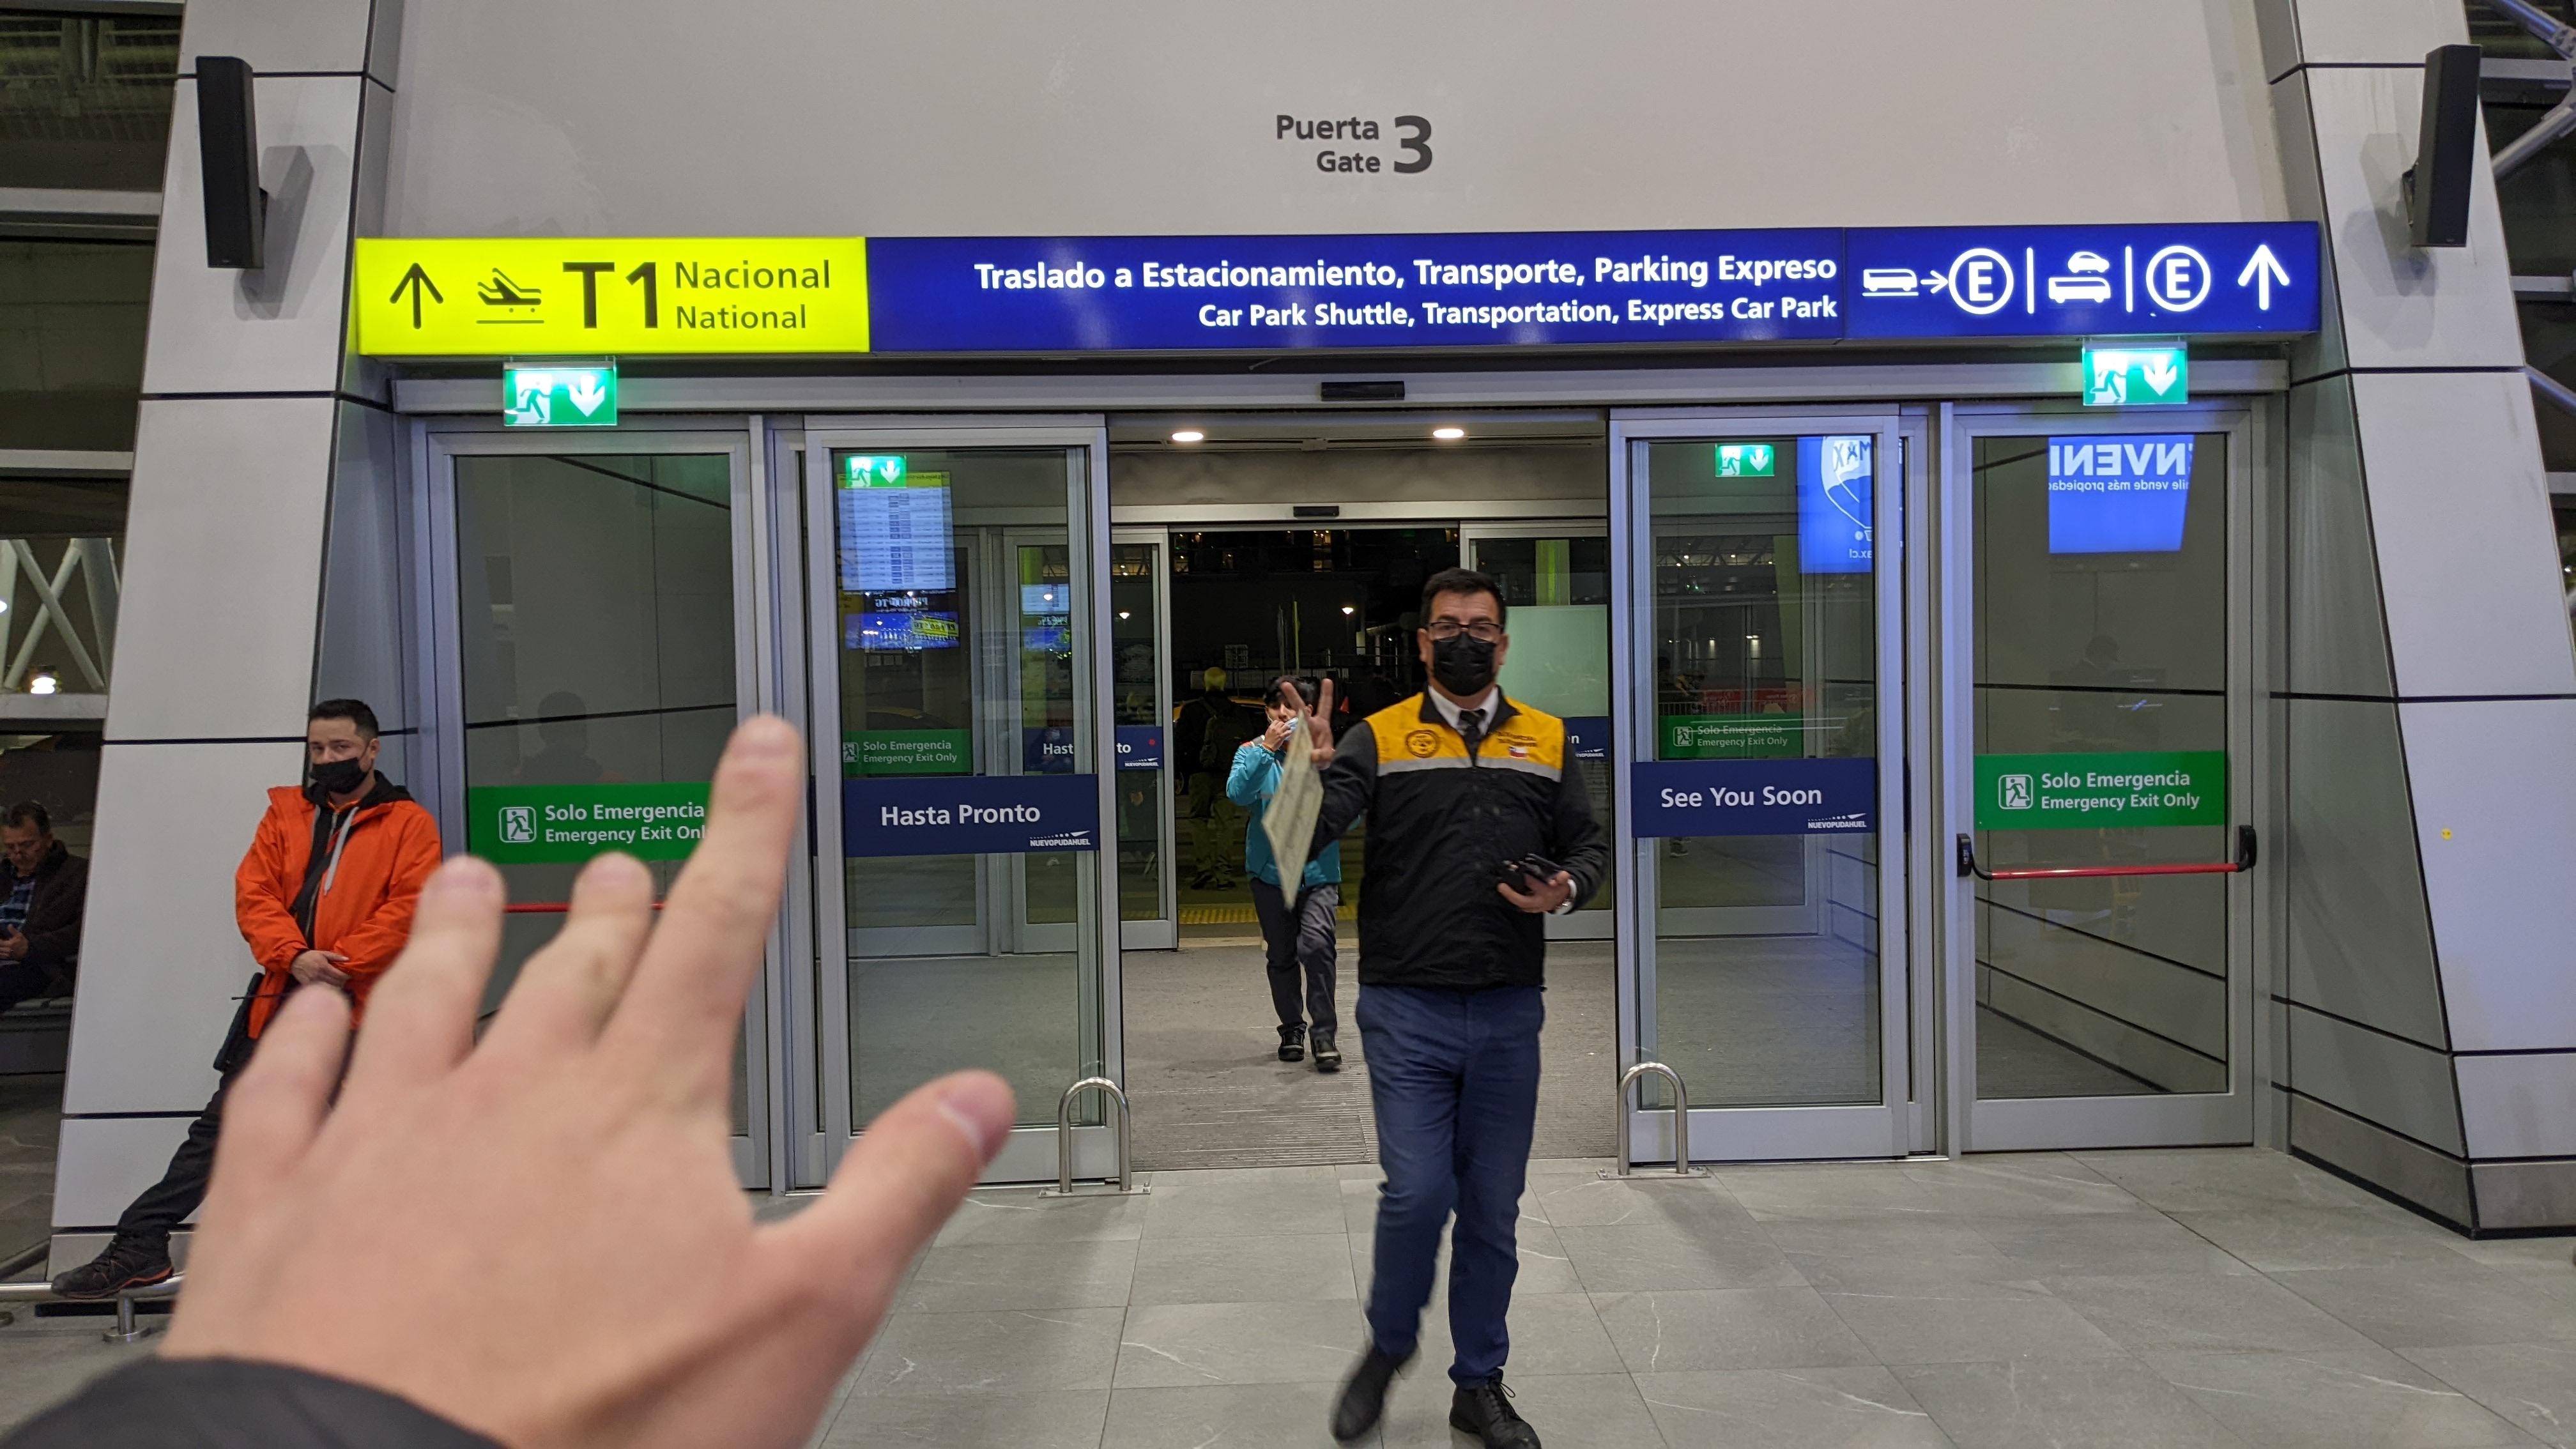emergency down arrow: (566, 373, 609, 419), (2141, 350, 2178, 396), (1748, 446, 1771, 472), (879, 460, 902, 485)
emergency exit: (511, 370, 554, 426), (2089, 352, 2128, 405), (504, 809, 534, 842), (846, 458, 872, 490), (2005, 777, 2029, 807), (1720, 446, 1741, 478), (1677, 727, 1691, 747), (842, 743, 856, 761)
thin up arrow: (380, 258, 449, 333), (2231, 237, 2295, 315)
